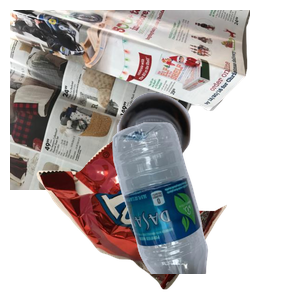glass: (115, 90, 300, 270)
paper: (10, 10, 250, 190)
plastic: (110, 120, 300, 300)
trash: (34, 136, 253, 300)
